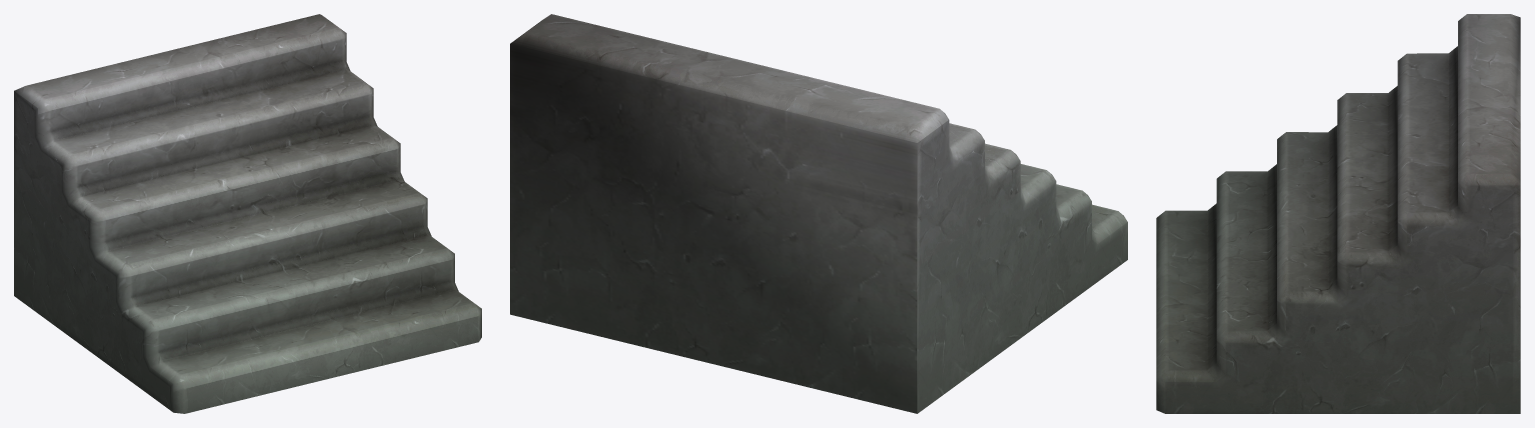
Rendered from DE_House_Mod_Part_14.fbx.
3 renders of one model, left to right at view 1: azimuth 30°, elevation 25°; view 2: azimuth 150°, elevation 25°; view 3: azimuth 270°, elevation 25°, orthographic. The views are drawn at different scales.
Visible parts, largest first — view 1: DE_House_Mod_Part_14; view 2: DE_House_Mod_Part_14; view 3: DE_House_Mod_Part_14.
Boxes of the visible parts, box(x1,y1,x2,y2) form: DE_House_Mod_Part_14: box(14, 14, 481, 413); DE_House_Mod_Part_14: box(510, 14, 1127, 413); DE_House_Mod_Part_14: box(1156, 14, 1520, 413).
Bounding box in the file's own units: 3.2 × 2.1 × 2.94.
